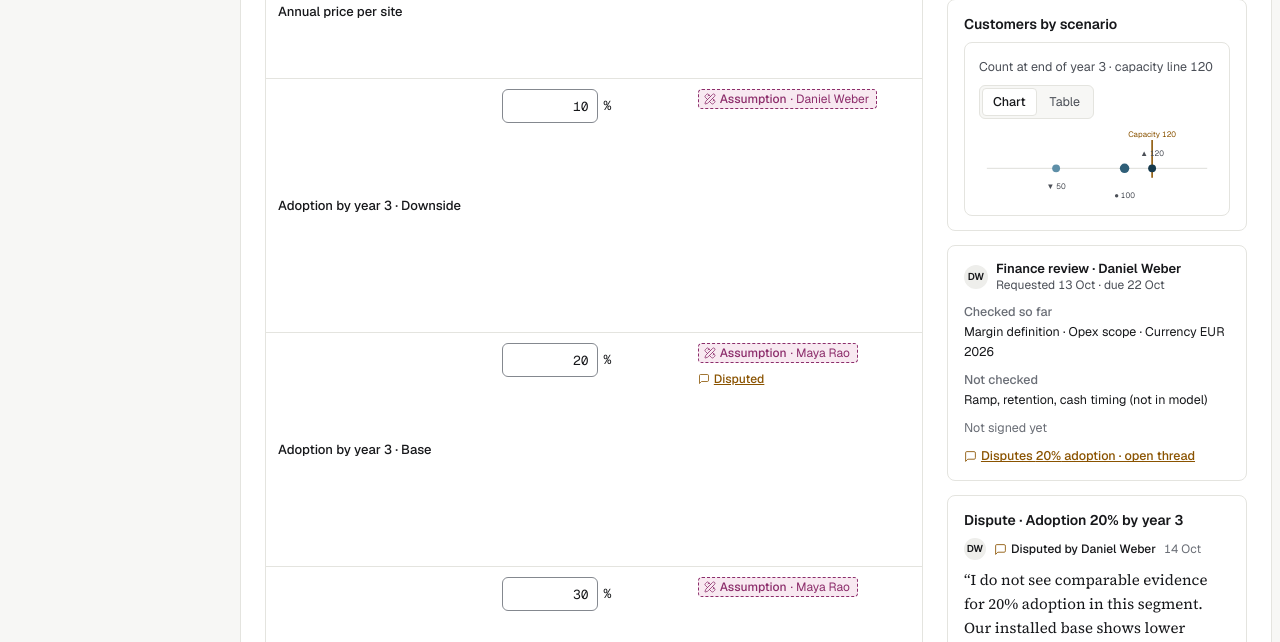
S08 Economics › recomputes the draft live and never changes snapshot v2
(page scrolled)
Step 1. Replace the text in the field named "Adoption by year 3 · Base" with "22" → (550, 360), box [502,343,598,377]
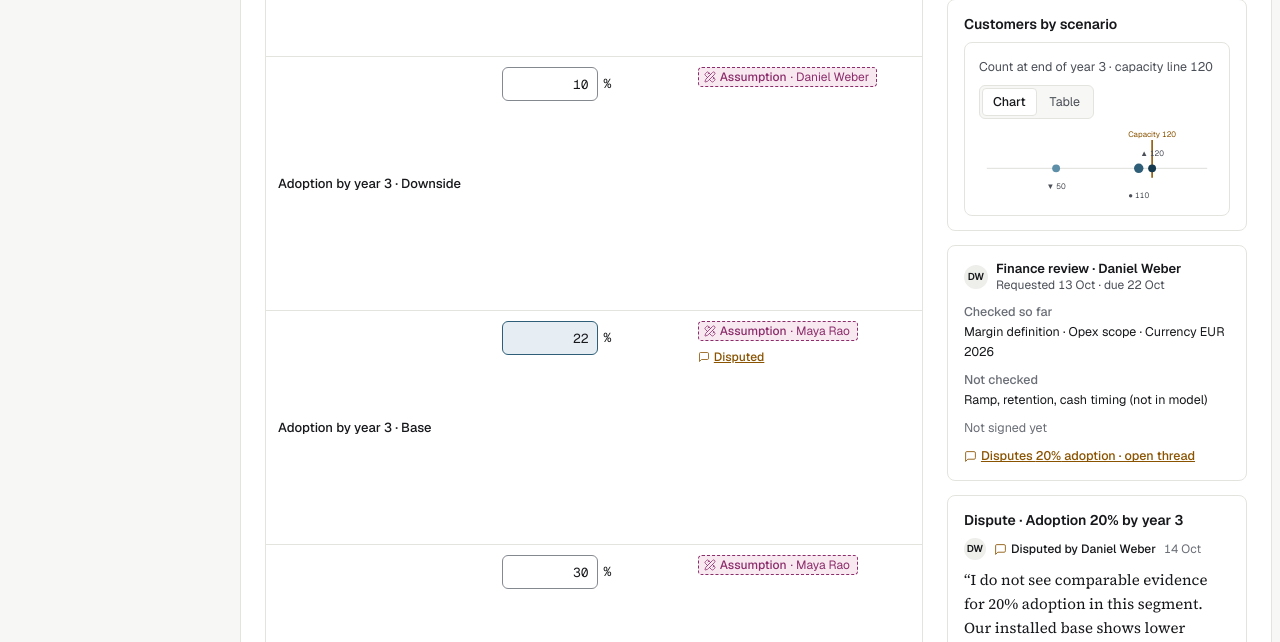
Step 2. Leave the field named "Adoption by year 3 · Base", box [502,321,598,355]
(page scrolled)
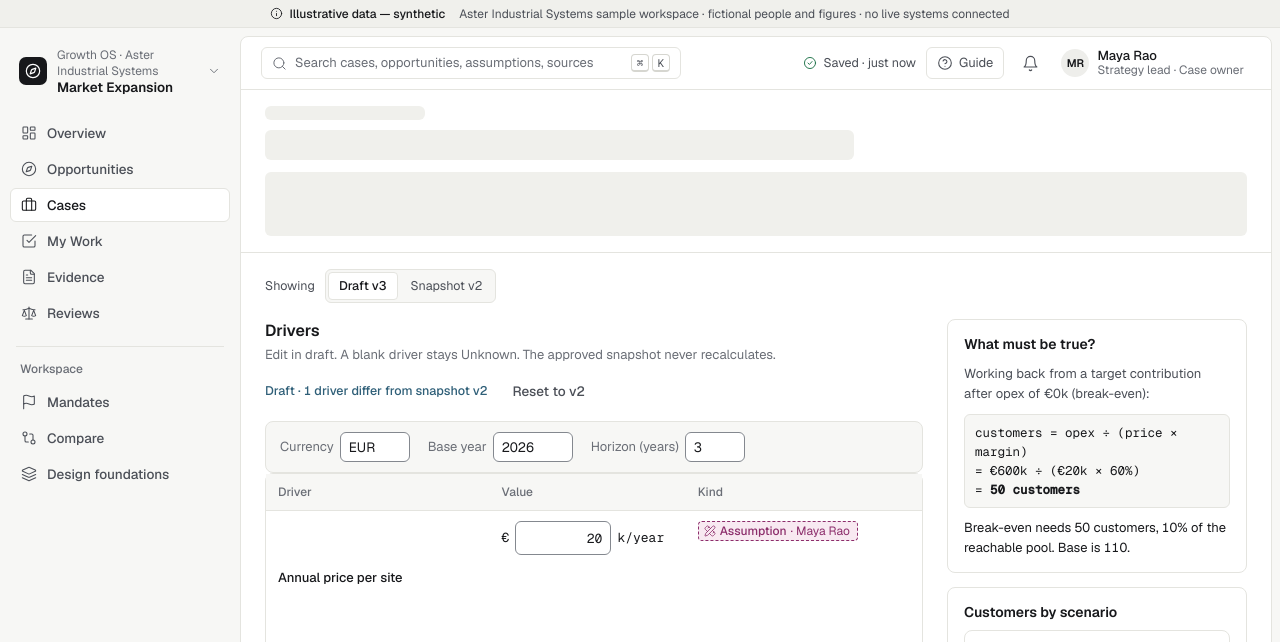
The server draft agrees with the local engine run.
Step 3. Click the button "Snapshot v2" → (446, 286), box [400,272,493,300]
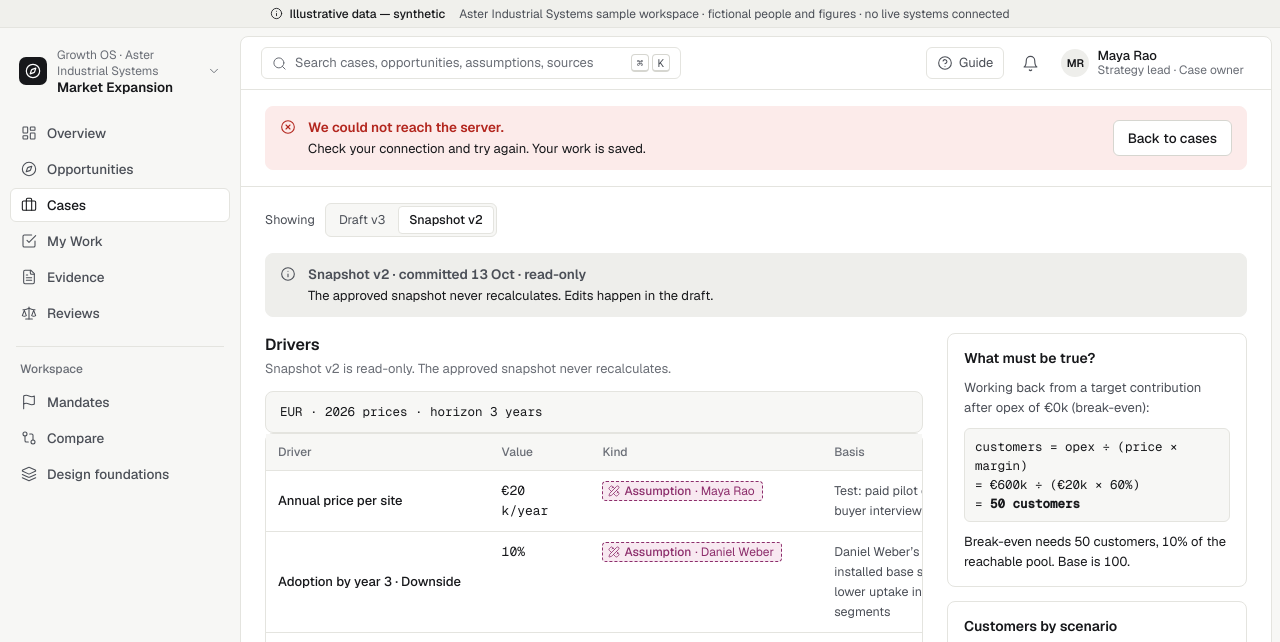
Expected: the text "Snapshot v2 · committed 13 Oct · read-only" is shown, [308,265,586,283]
